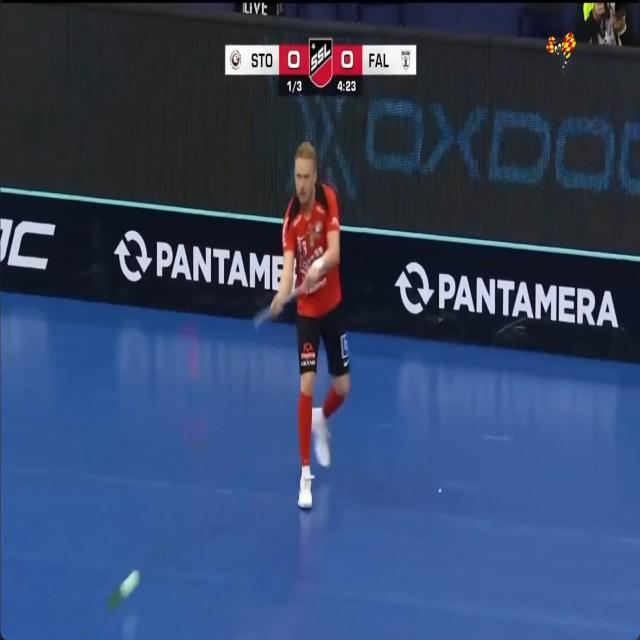Balls: (119, 570, 139, 596)
player: (271, 143, 350, 507)
